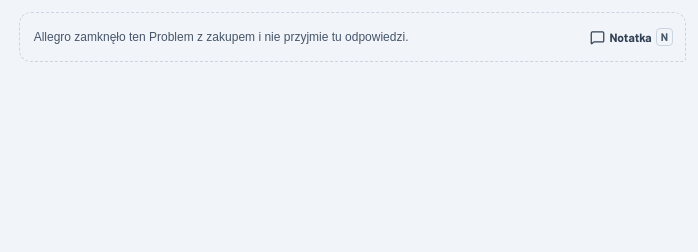
zamknięty Problem z zakupem › N z tła otwiera notatkę, a powrót do odpowiedzi pokazuje znów samo zdanie
The width and height of the screenshot is (698, 252).
Type keys "n"
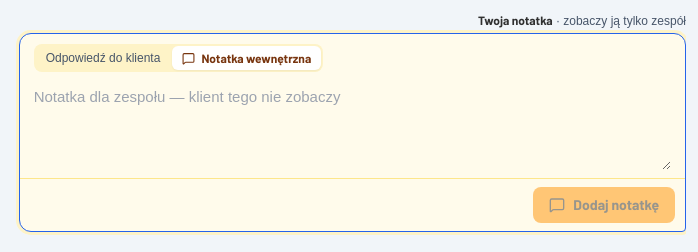
Click the button "Odpowiedź do klienta" at (103, 58), box [36,46,170,70]
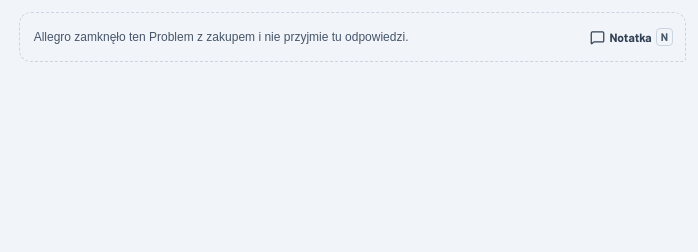
expect the text "Allegro zamknęło ten Problem z zakupem i nie przyjmie tu odpowiedzi." is shown: met, box [34,30,408,44]
